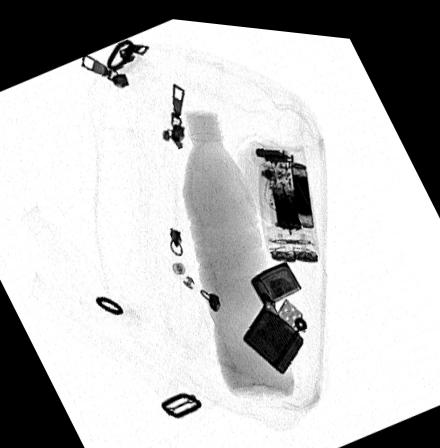Lighter: (240, 253, 308, 369)
